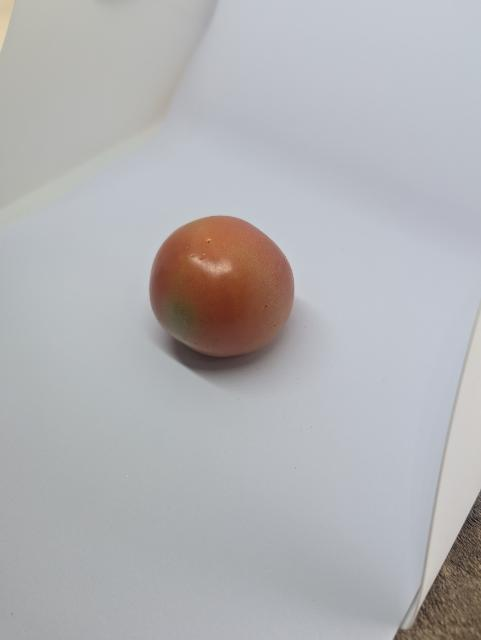turning: (135, 202, 308, 378)
